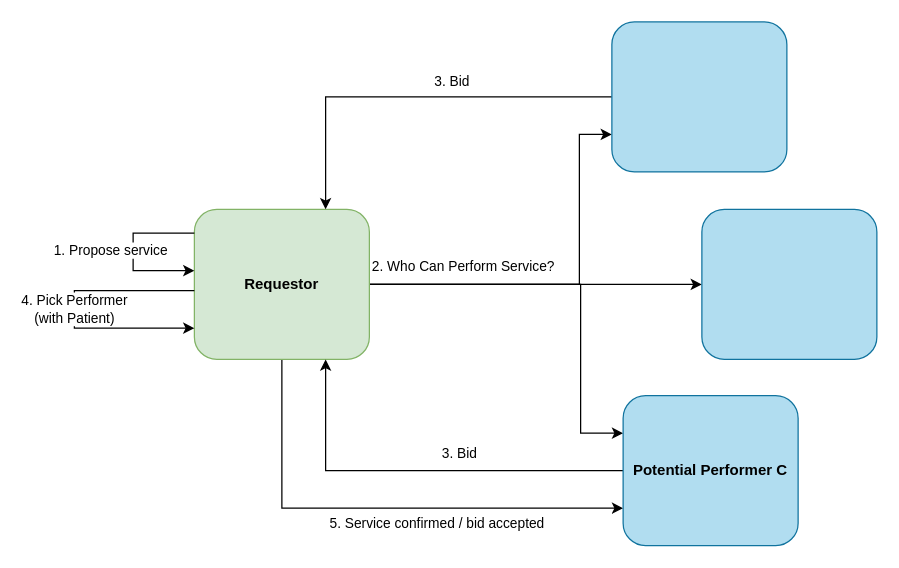
Some shapes in this 899 by 568 pixel diagram are drawn without their labels. The shapes that lost their labels are listed below. From the top down, each one's centre as x and y in pixels, then its label:
pixel 699 96: Potential Performer A
pixel 789 283: Potential Performer B
